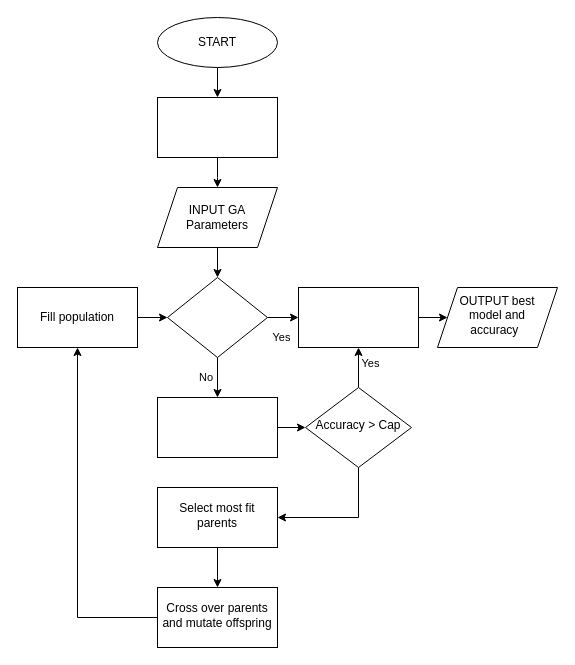
Some shapes in this 575 by 665 pixel diagram are drawn without their labels. Here are the shapes that lost their labels. From the top down, the centre of each, then its label:
At point 217,127: "Initalise Population".
At point 217,317: "Is GA Finished".
At point 358,317: "Test best model with all test data".
At point 217,427: "Evaluate population fitness".
